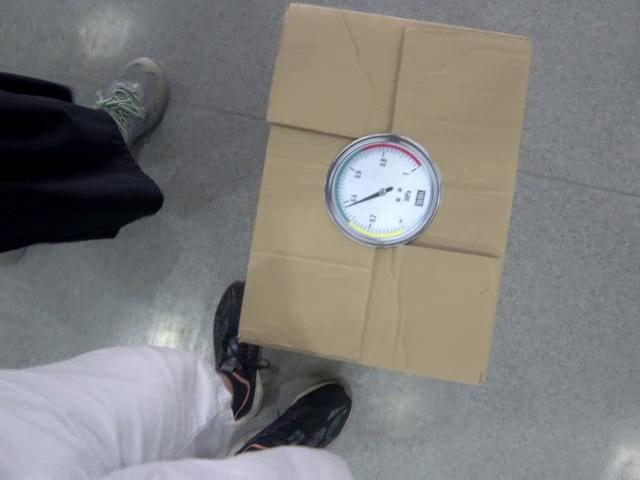Dashboard: (327, 135, 440, 245)
ssi: (414, 190, 429, 207)
